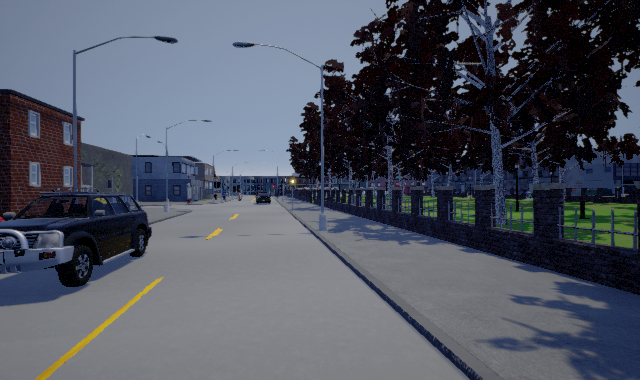traffic_light: (289, 176, 297, 187)
vehicle: (1, 193, 152, 287), (255, 191, 271, 203)
